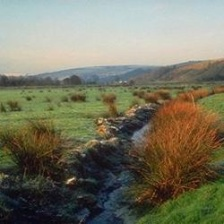neutral: (3, 4, 224, 221)
